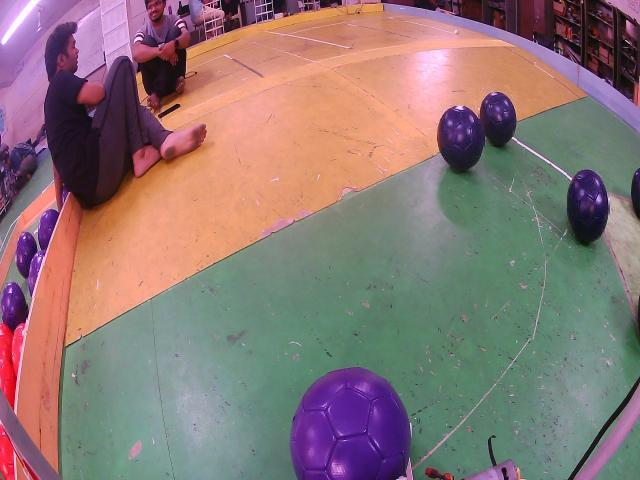jambhalya: (290, 368, 411, 480), (1, 284, 27, 333), (17, 233, 37, 277), (37, 209, 58, 250), (27, 252, 44, 298)
kaalyya: (567, 170, 609, 245), (437, 106, 484, 171), (479, 92, 517, 145), (631, 169, 640, 218)
